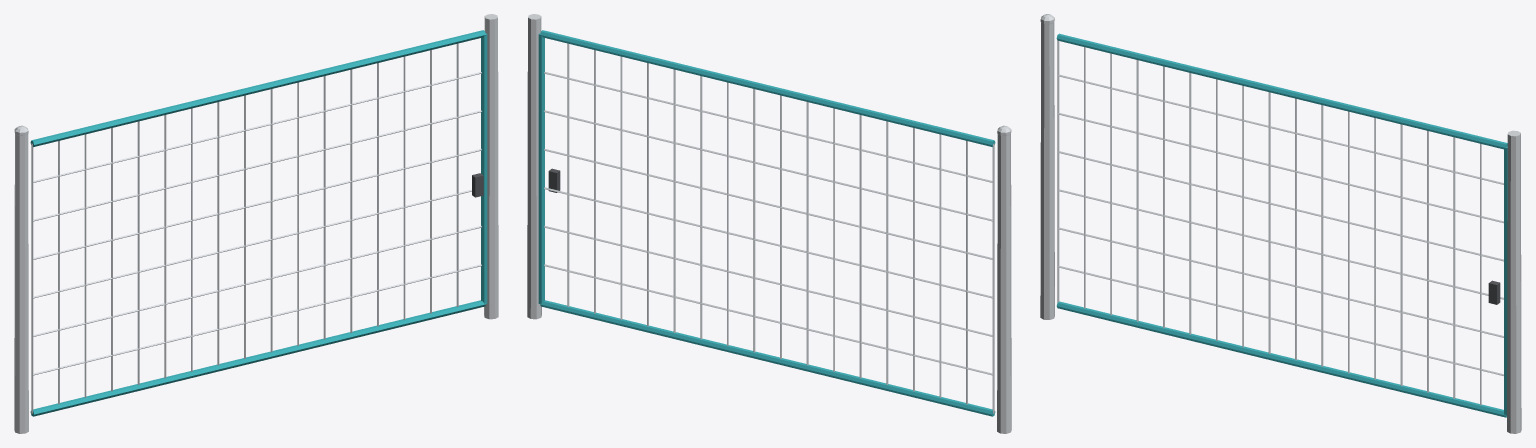
File: skate-park-and-street-sports-chain-link-fence-gate-9a104be9__33544.glb
3 renders of one model, left to right at view 1: azimuth 30°, elevation 25°; view 2: azimuth 150°, elevation 25°; view 3: azimuth 330°, elevation 25°, orthographic.
Parts seen in each view (by area): view 1: gate/steel, gate/teal, chain-link-fence-gate-steel; view 2: gate/steel, gate/teal, chain-link-fence-gate-steel; view 3: gate/steel, chain-link-fence-gate-steel, gate/teal.
Part boxes in pixels (<box>): gate/steel: <box>31,43,481,413</box>; gate/teal: <box>30,30,487,416</box>; chain-link-fence-gate-steel: <box>14,14,498,433</box>; gate/steel: <box>544,43,994,413</box>; gate/teal: <box>538,30,995,416</box>; chain-link-fence-gate-steel: <box>527,14,1011,433</box>; gate/steel: <box>1057,40,1503,405</box>; chain-link-fence-gate-steel: <box>1040,14,1521,433</box>; gate/teal: <box>1056,33,1507,417</box>.
Size of the model in its own units: 4.05 by 2.44 by 0.1249.
